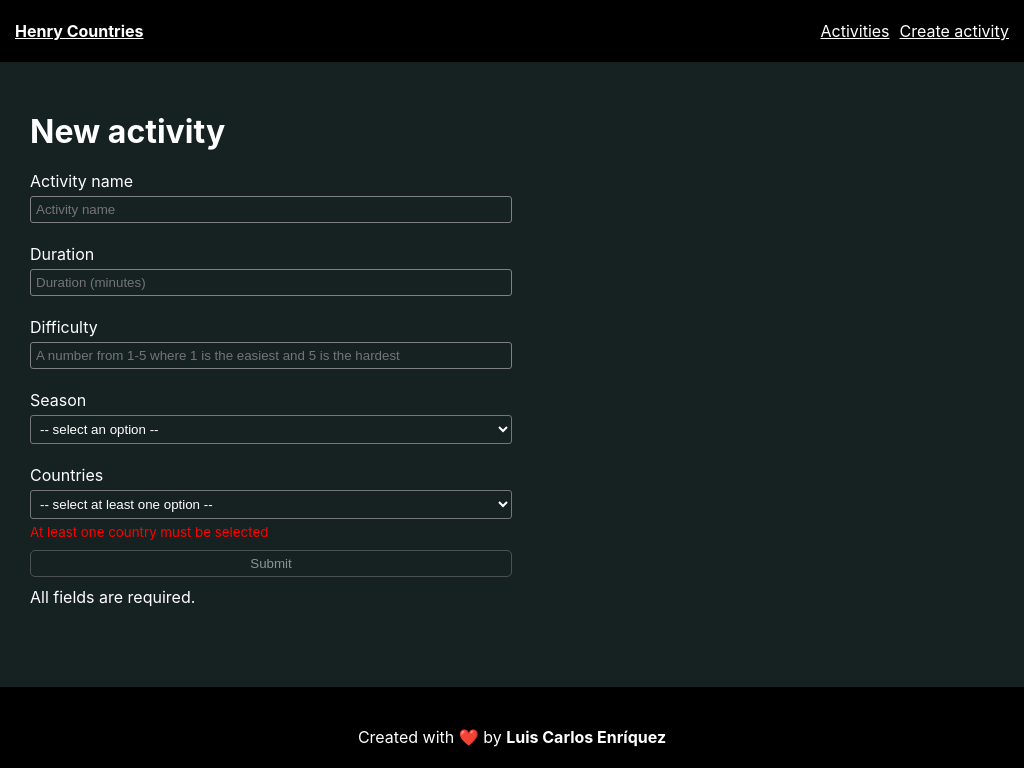
New activity page › shows validation errors for activity name
Type "12345" into the field labelled "Activity name". click: (271, 210)
box: [30,196,512,223]
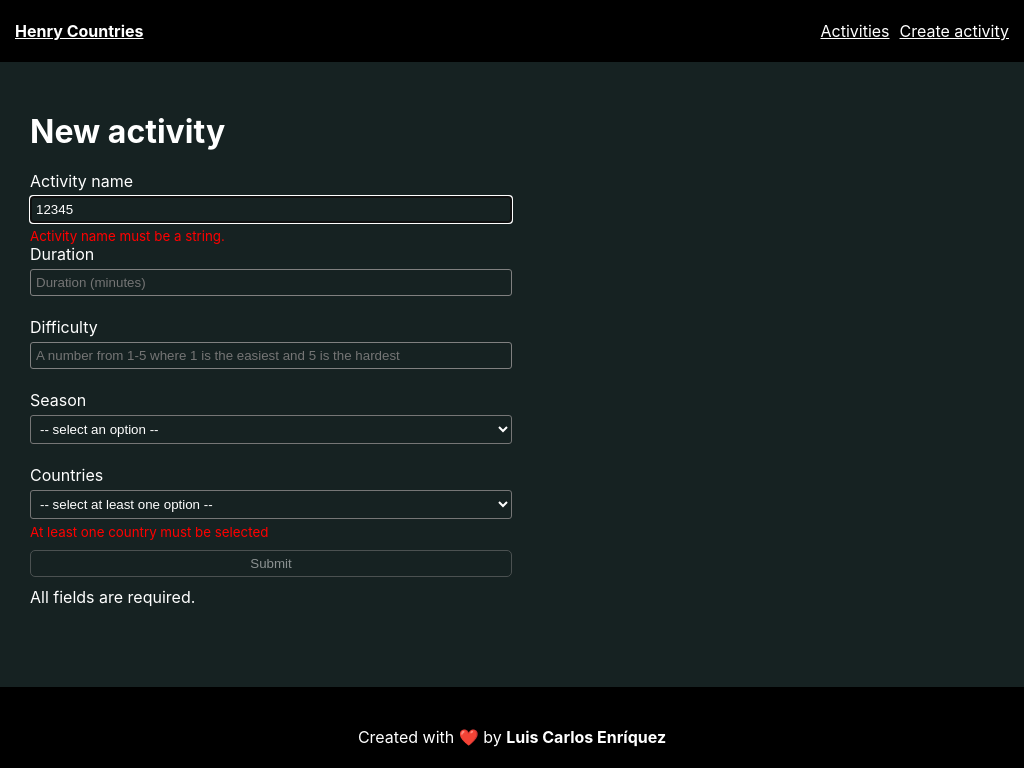
Expected: the text "Activity name must be a string." is shown, [30,228,225,244]
